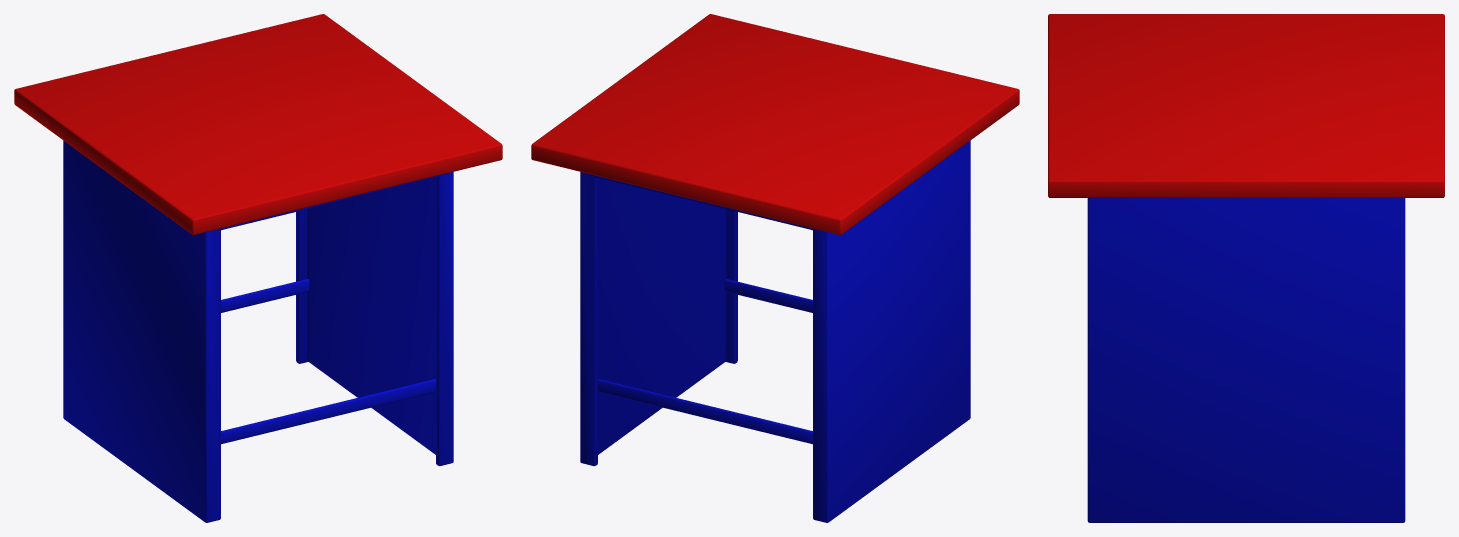
The model's file is S_SupportTable.fbx.
The picture shows the model from 3 angles, left to right: view 1: azimuth 30°, elevation 25°; view 2: azimuth 150°, elevation 25°; view 3: azimuth 270°, elevation 25°; orthographic projection. The views are drawn at different scales.
Visible parts, largest first — view 1: PH_SUPPORT_TABLE; view 2: PH_SUPPORT_TABLE; view 3: PH_SUPPORT_TABLE.
Boxes of the visible parts, x1,y1,x2,y2 form: PH_SUPPORT_TABLE: (14,14,502,522); PH_SUPPORT_TABLE: (531,14,1019,522); PH_SUPPORT_TABLE: (1048,14,1444,522).
Size of the model in its own units: 39.37 by 39.37 by 39.37.
